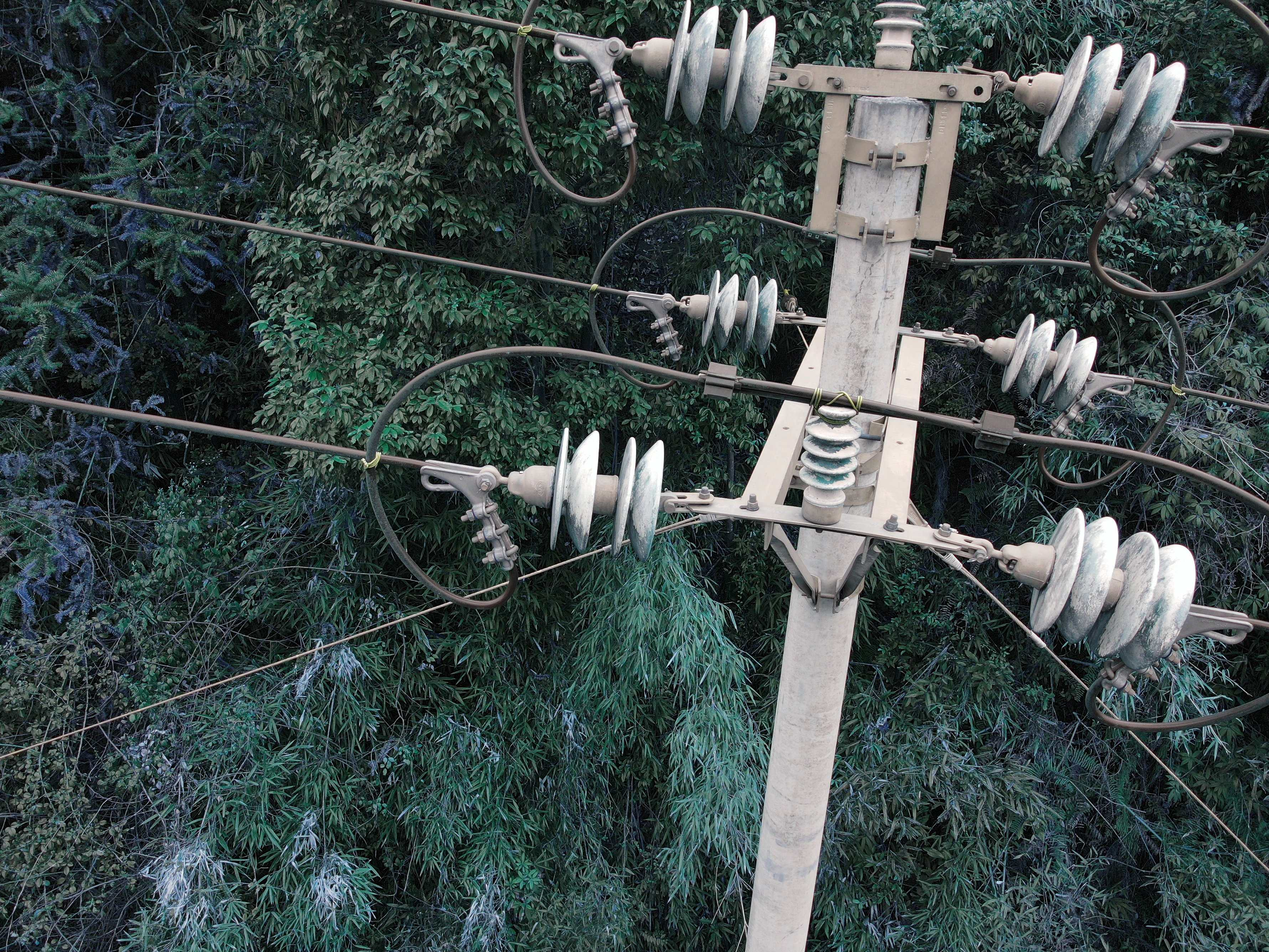severe_soiling_no_discharge_whole: (999, 503, 1203, 673), (1015, 35, 1192, 183), (508, 427, 675, 563), (630, 7, 779, 132), (982, 310, 1100, 412), (793, 404, 867, 526), (682, 268, 785, 355), (866, 3, 927, 69)
